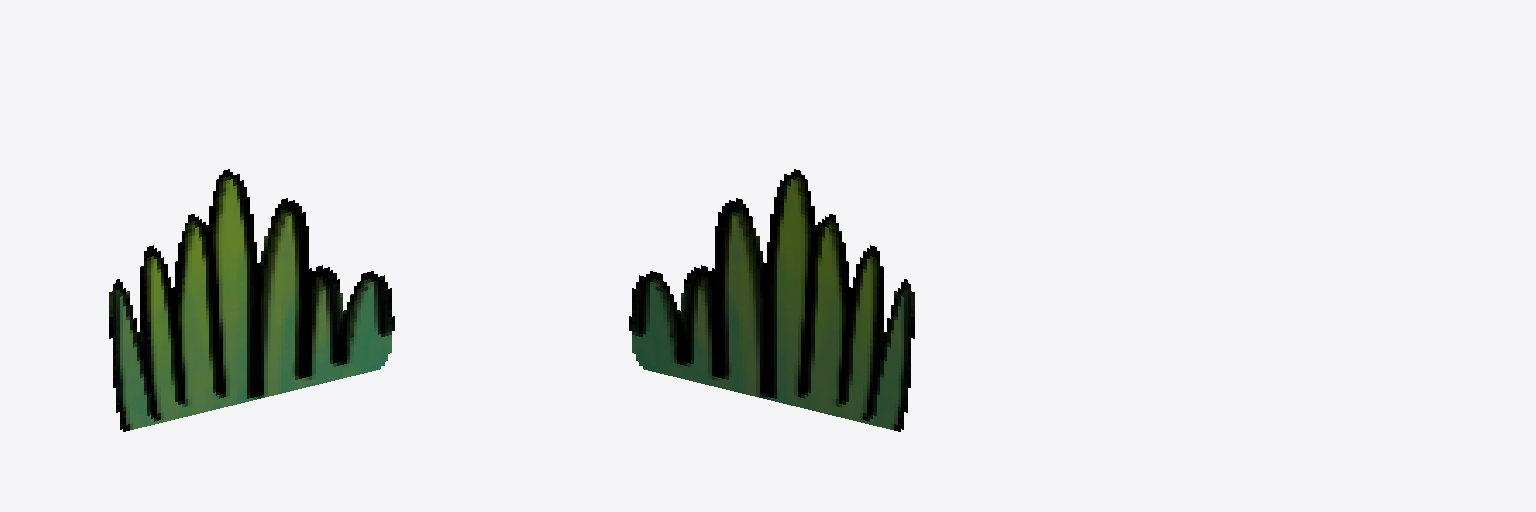
The picture shows the model from 3 angles: view 1: azimuth 30°, elevation 25°; view 2: azimuth 150°, elevation 25°; view 3: azimuth 270°, elevation 25°; orthographic projection.
Parts seen in each view (by area): view 1: FOREST_DECOR_GRASS_007; view 2: FOREST_DECOR_GRASS_007; view 3: none.
Part boxes in pixels (bbox=[...]): FOREST_DECOR_GRASS_007: bbox=[109, 169, 394, 431]; FOREST_DECOR_GRASS_007: bbox=[629, 169, 914, 431].
Bounding box in the file's own units: 0.4375 × 0.3987 × 0.
1 materials, 1 textured.